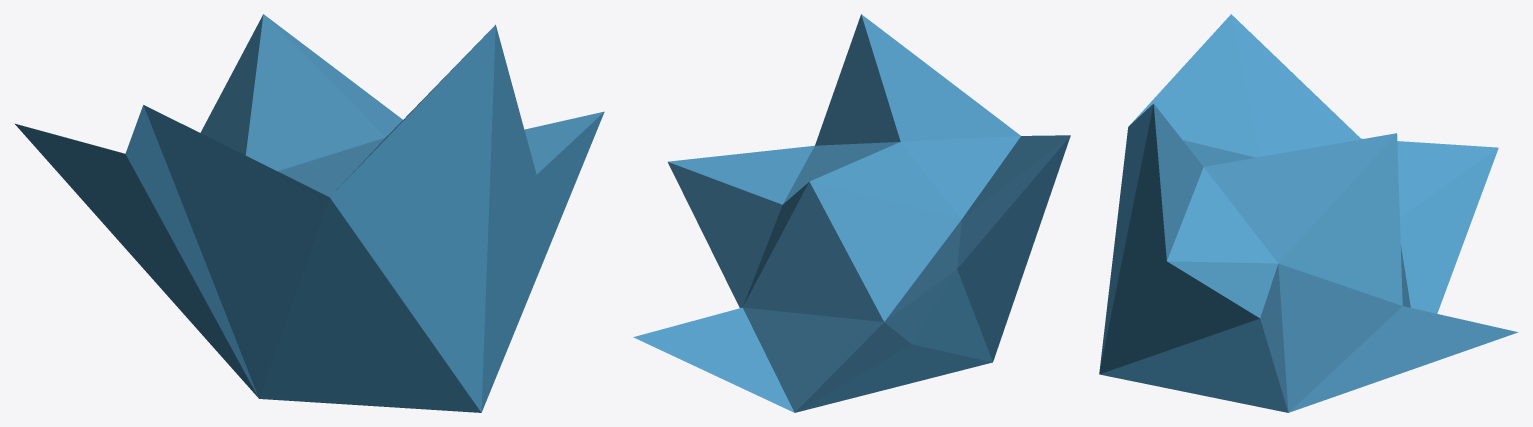
Rendered from BushWinter1_Alt1.fbx.
3 renders of one model, left to right at view 1: azimuth 30°, elevation 25°; view 2: azimuth 150°, elevation 25°; view 3: azimuth 270°, elevation 25°, orthographic. The views are drawn at different scales.
Visible parts, largest first — view 1: BushWinter1_Alt1; view 2: BushWinter1_Alt1; view 3: BushWinter1_Alt1.
Part boxes in pixels (x1,y1,x2,y2): BushWinter1_Alt1: [15, 14, 604, 412]; BushWinter1_Alt1: [633, 14, 1070, 412]; BushWinter1_Alt1: [1099, 14, 1518, 412].
Bounding box in the file's own units: 0.6828 × 0.4811 × 0.6299.
